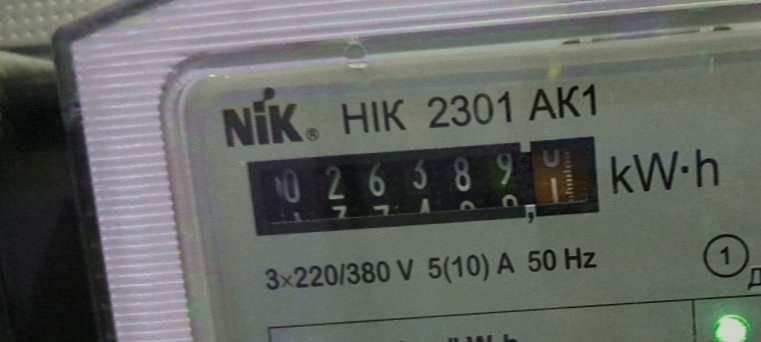0: (277, 165, 303, 205), (541, 147, 560, 168)
1: (547, 174, 561, 205)
2: (322, 162, 347, 202)
3: (409, 157, 428, 192)
6: (366, 159, 386, 199)
8: (451, 154, 473, 193)
9: (494, 151, 514, 186)
screen: (231, 124, 615, 248)
